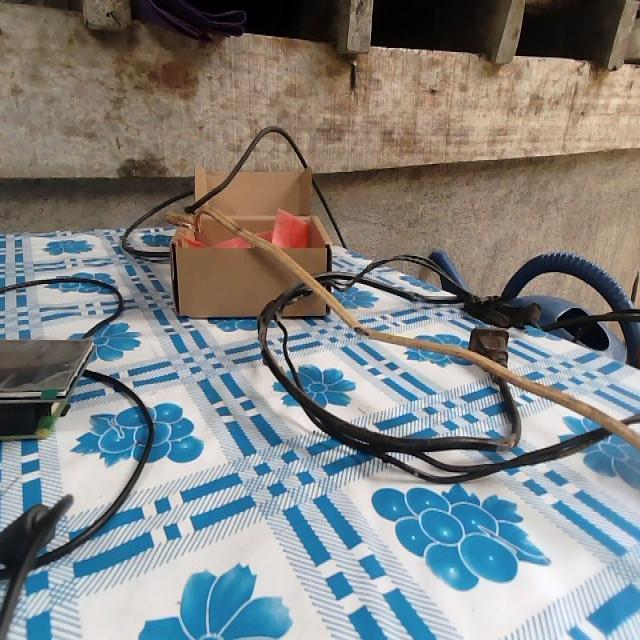-: (254, 315, 276, 376), (486, 436, 514, 452), (351, 321, 370, 340)
